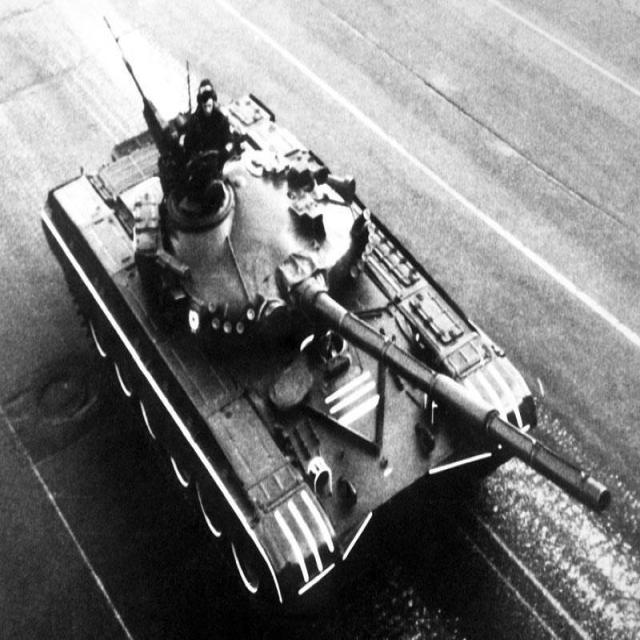Tanks: (39, 85, 626, 565)
